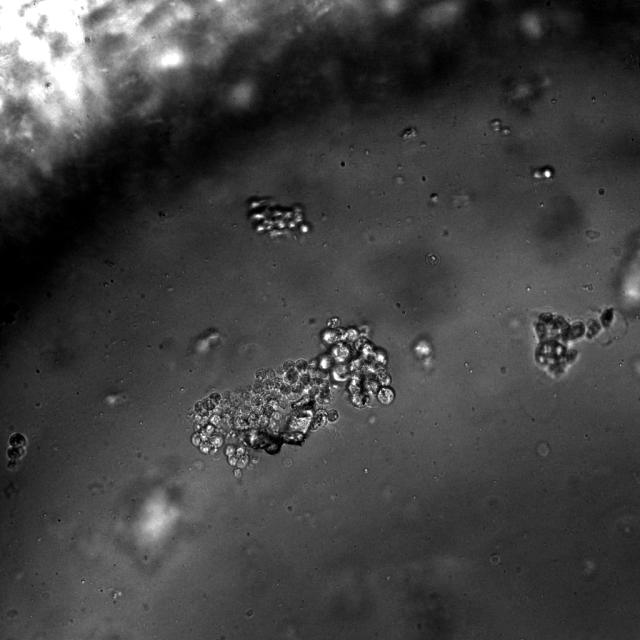organoid: (186, 316, 395, 480), (534, 307, 614, 376), (248, 197, 310, 237), (411, 334, 434, 373), (5, 432, 27, 470), (489, 119, 511, 135), (532, 166, 554, 180), (425, 252, 441, 266), (401, 126, 417, 139), (429, 193, 438, 202), (598, 188, 605, 195), (421, 175, 427, 182), (482, 132, 487, 137)
